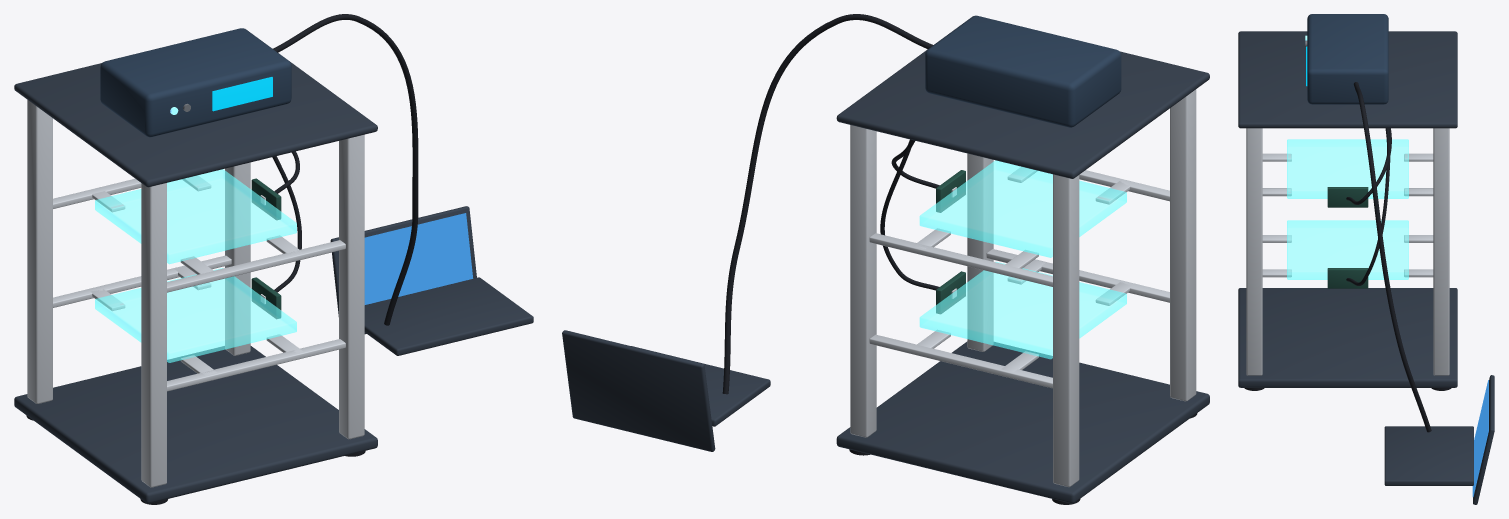
File: detector.glb
3 views of the same model, side by side, from view 1: azimuth 30°, elevation 25°; view 2: azimuth 150°, elevation 25°; view 3: azimuth 270°, elevation 25° (orthographic). The views are drawn at different scales.
Visible parts, largest first — view 1: BasePlate, TopPlate, ControlUnit, ScintA, ScintB, LaptopBase, Post0, Post1, Post3, LaptopScreen, Post2, USB (+9 smaller); view 2: BasePlate, TopPlate, ControlUnit, LaptopLid, ScintA, ScintB, Post3, Post2, Post0, Post1, USB, LaptopBase (+7 smaller); view 3: BasePlate, TopPlate, ControlUnit, ScintB, ScintA, LaptopBase, Post1, Post2, USB, LaptopScreen, LaptopLid, PCBA (+3 smaller).
Part boxes in pixels (x1,y1,x2,y2): BasePlate: [14, 346, 377, 503]; TopPlate: [14, 29, 377, 187]; ControlUnit: [100, 28, 291, 137]; ScintA: [95, 169, 296, 264]; ScintB: [95, 268, 296, 362]; LaptopBase: [364, 277, 533, 355]; Post0: [141, 183, 166, 487]; Post1: [339, 134, 364, 439]; Post3: [27, 100, 52, 403]; LaptopScreen: [364, 213, 473, 304]; Post2: [225, 162, 250, 355]; USB: [273, 14, 418, 325]; BasePlate: [836, 341, 1209, 503]; TopPlate: [836, 16, 1209, 178]; ControlUnit: [925, 15, 1121, 127]; LaptopLid: [562, 330, 715, 451]; ScintA: [919, 160, 1126, 257]; ScintB: [919, 262, 1126, 359]; Post3: [1053, 174, 1079, 486]; Post2: [850, 125, 876, 437]; Post0: [1170, 89, 1196, 401]; Post1: [967, 153, 993, 351]; USB: [722, 14, 933, 394]; LaptopBase: [631, 346, 770, 426]; BasePlate: [1238, 288, 1457, 387]; TopPlate: [1238, 31, 1457, 128]; ControlUnit: [1307, 14, 1388, 104]; ScintB: [1287, 220, 1408, 279]; ScintA: [1287, 139, 1408, 198]; LaptopBase: [1384, 426, 1473, 485]; Post1: [1246, 128, 1262, 375]; Post2: [1433, 128, 1449, 375]; USB: [1353, 82, 1431, 432]; LaptopScreen: [1472, 380, 1488, 496]; LaptopLid: [1473, 375, 1494, 504]; PCBA: [1327, 187, 1368, 207].
Size of the model in its own units: 0.555 by 0.4379 by 0.3155.
